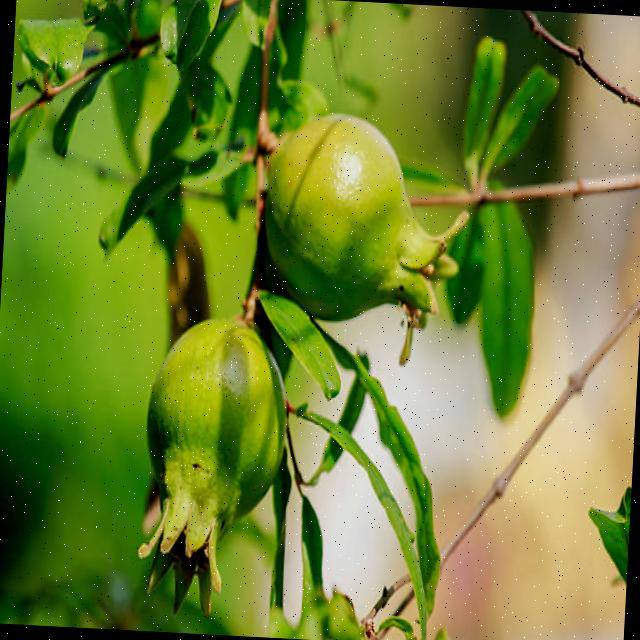Unripe: (133, 308, 291, 622), (260, 108, 479, 326)
